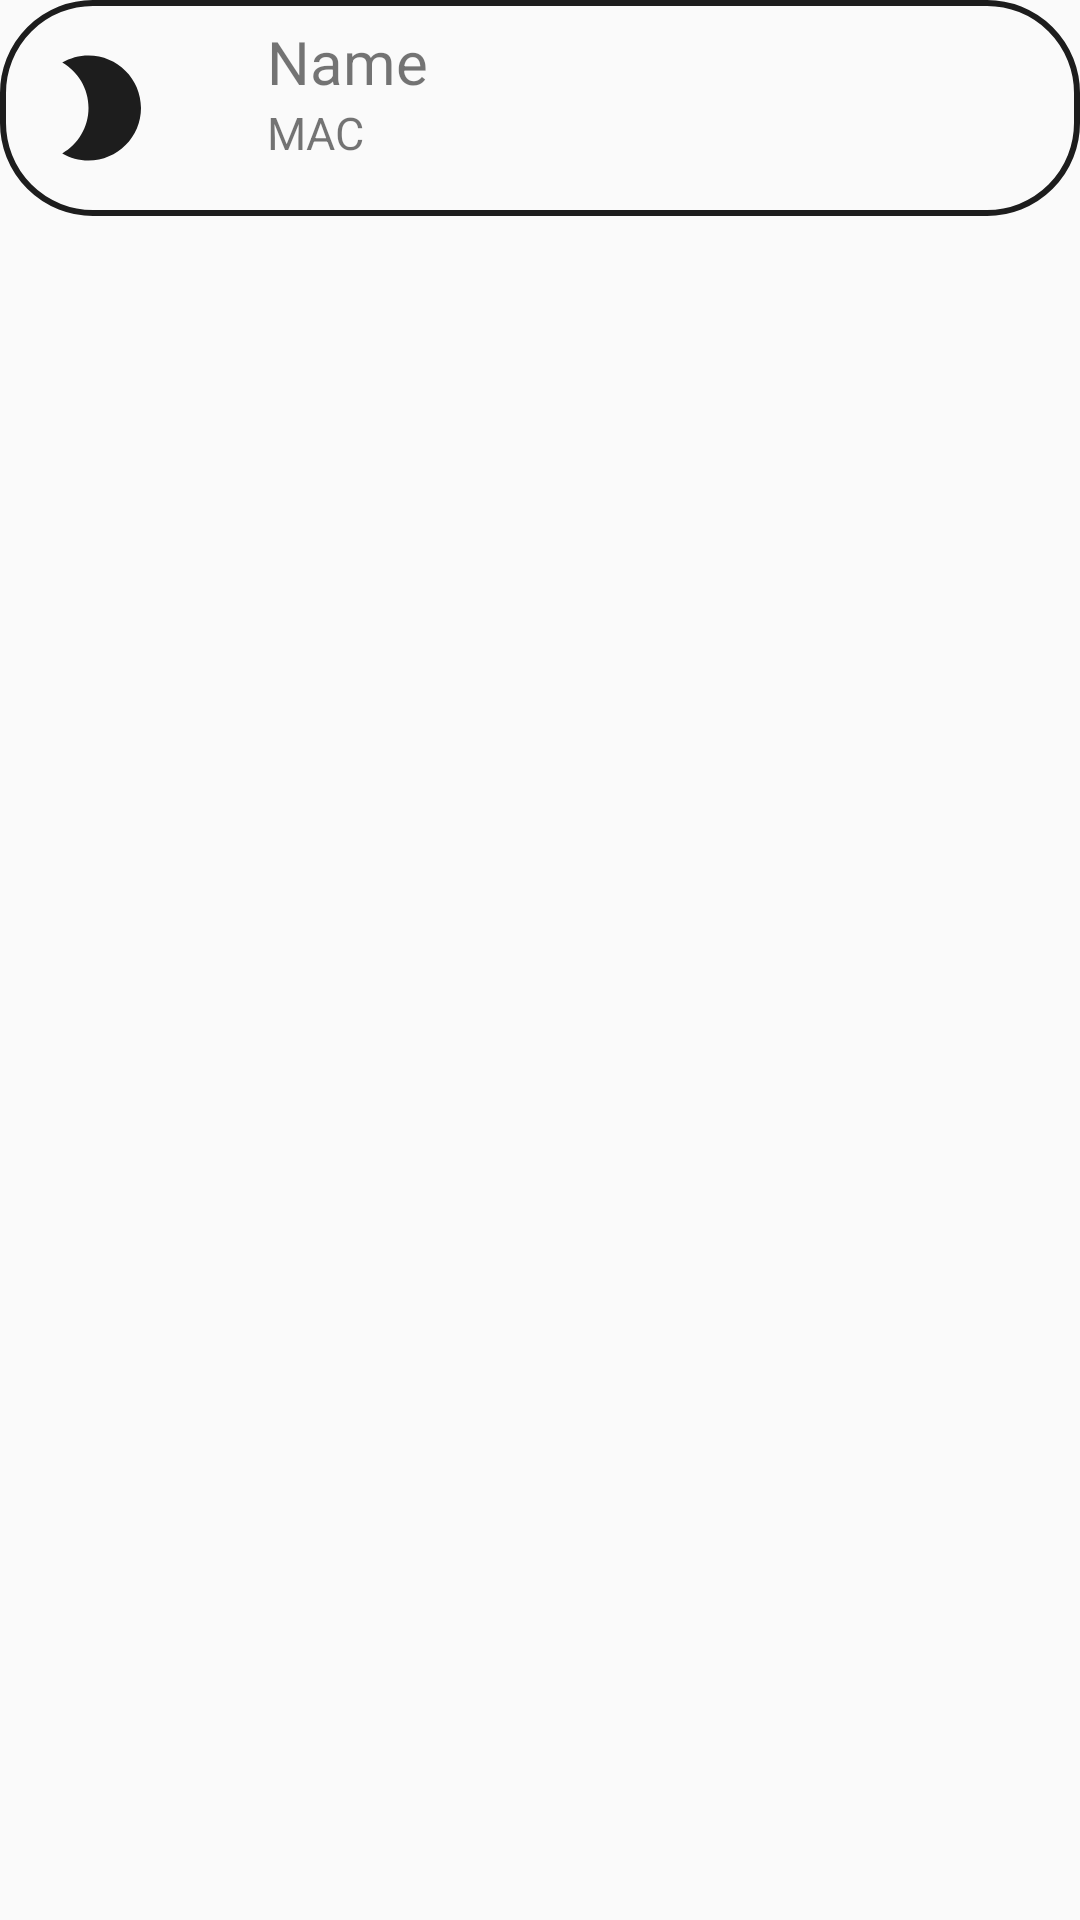

Icon click points for this 1080px×1920px phone screenshot, format point (x, y):
brightness: point (101, 108)
